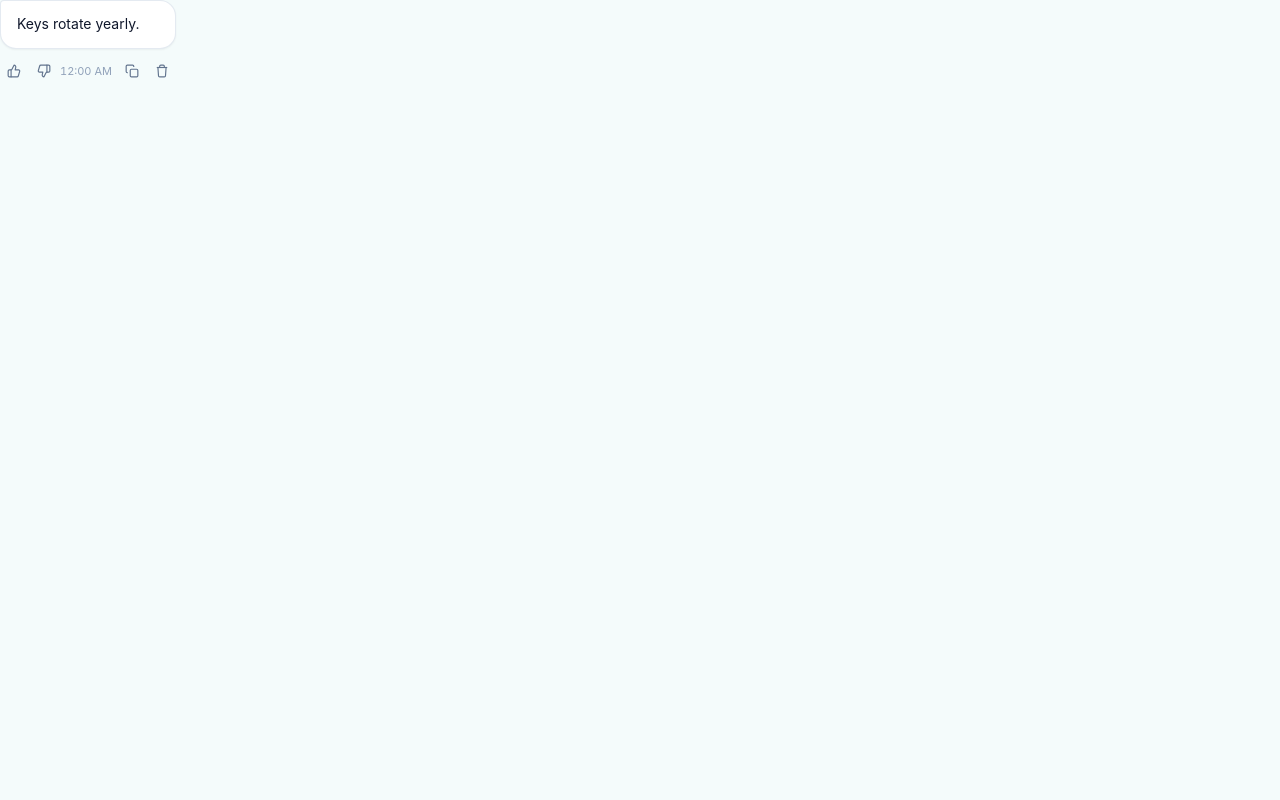
Test case: Delete exchange › shows the server failure instead of hiding it
Click the button named "delete this exchange".
click(162, 71)  # box [148,57,176,85]
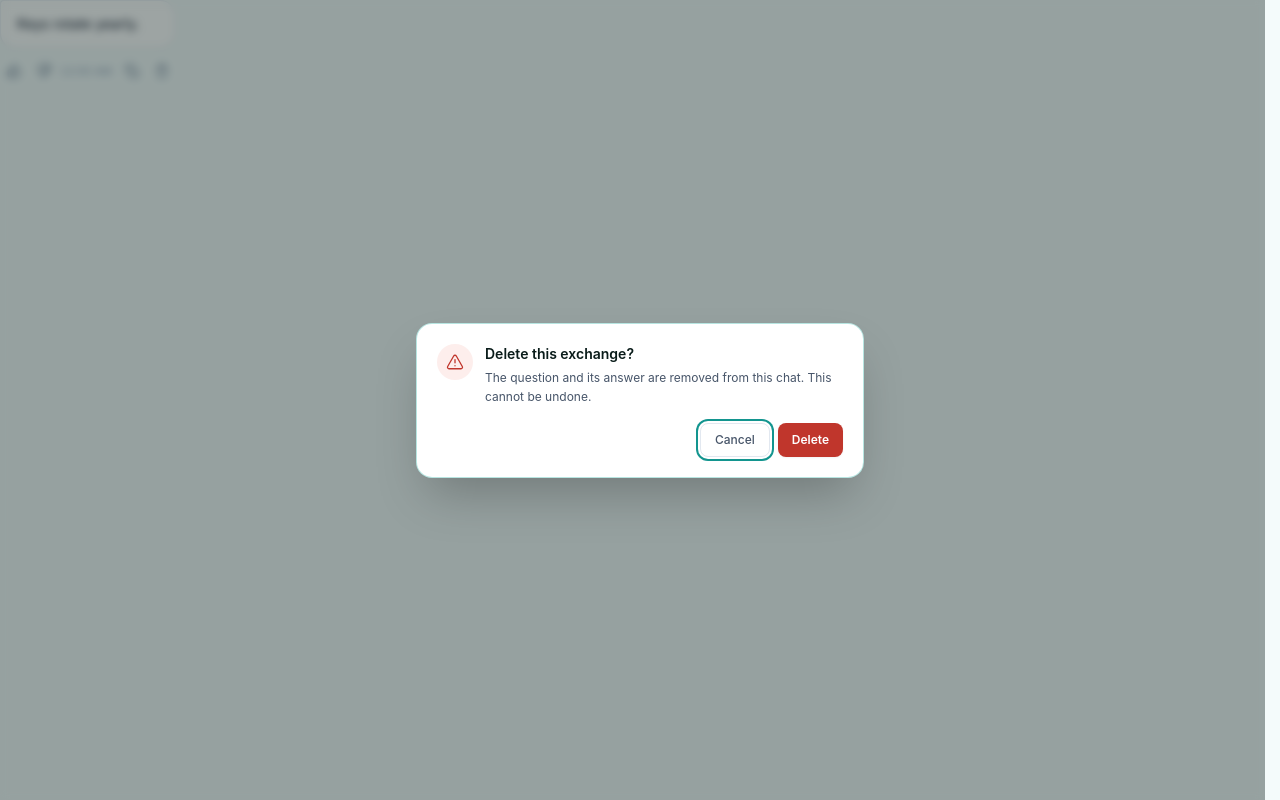
Click the button "Delete".
click(810, 440)  # box [778,422,843,456]
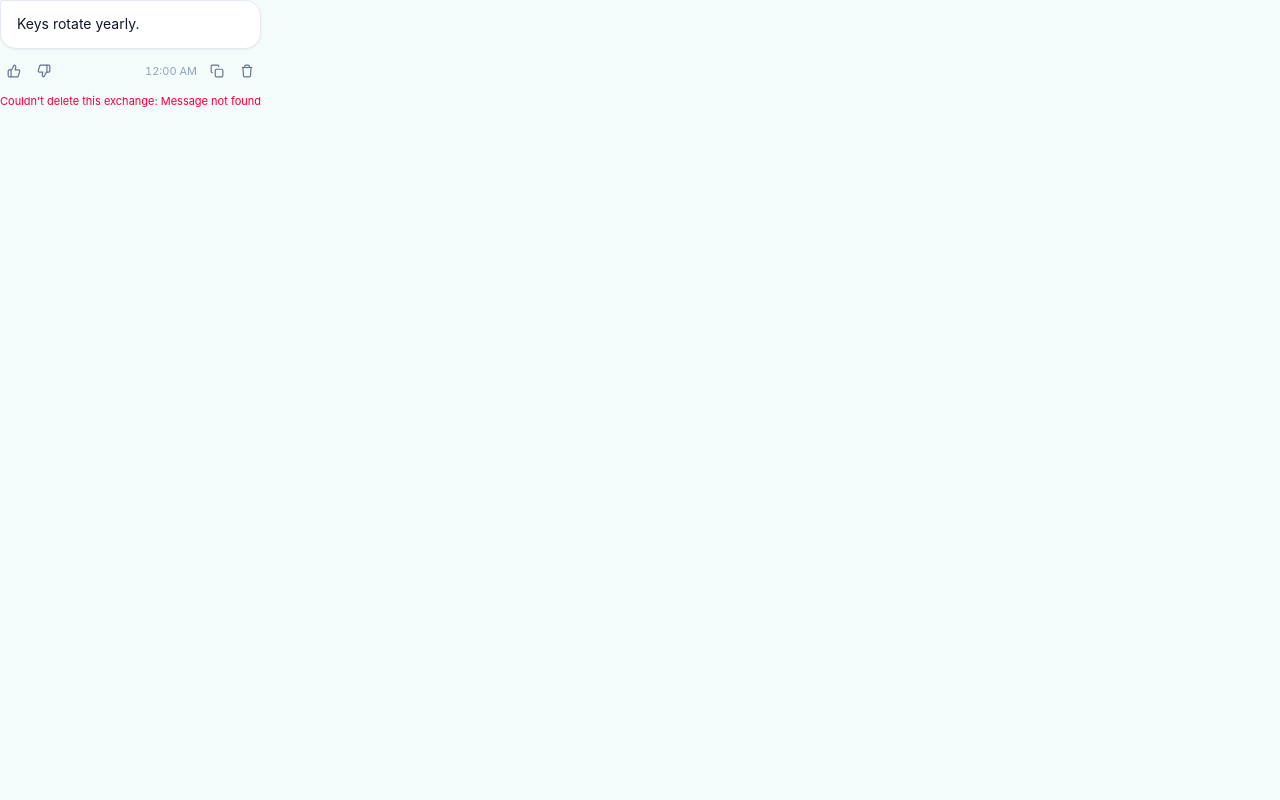
Expected: the text "Couldn't delete this exchange: Message not found" is shown, [0,93,261,109]
